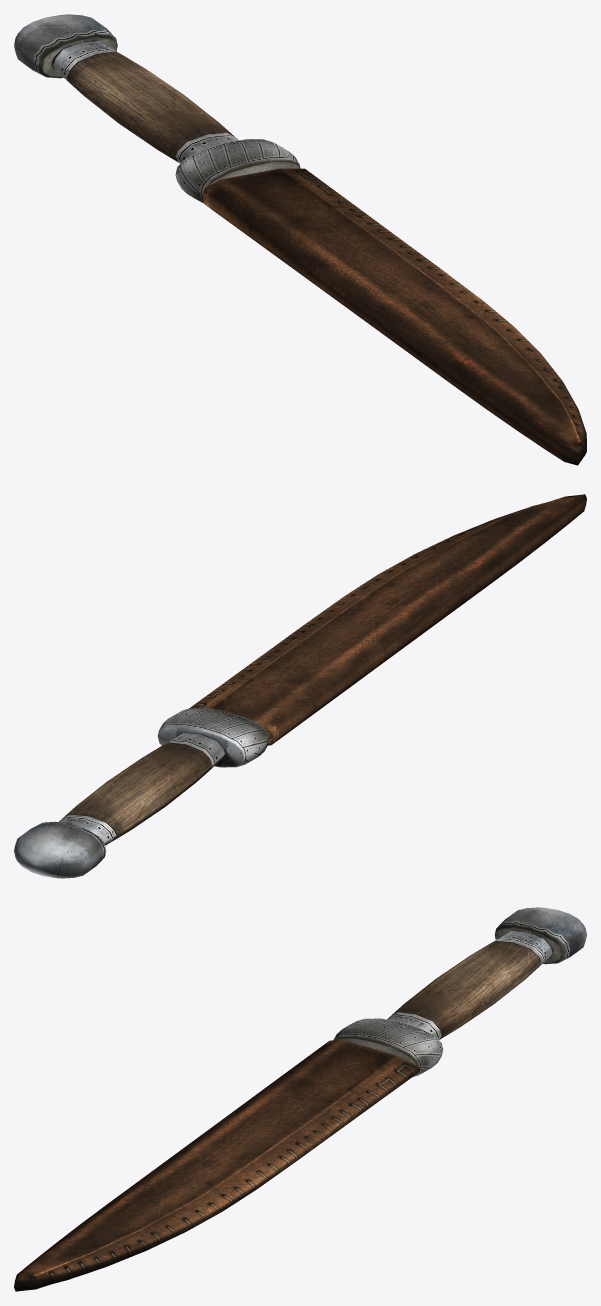
File: Knife_A_with_skabbard.FBX
3 views of the same model, one above another, from view 1: azimuth 30°, elevation 25°; view 2: azimuth 150°, elevation 25°; view 3: azimuth 330°, elevation 25° (orthographic). The views are drawn at different scales.
Parts seen in each view (by area): view 1: Knife_Scabbard_A, Knife_A01; view 2: Knife_Scabbard_A, Knife_A01; view 3: Knife_Scabbard_A, Knife_A01.
Boxes of the visible parts, left/top/right/bottom form: Knife_Scabbard_A: left=202, top=168, right=586, bottom=465; Knife_A01: left=14, top=14, right=300, bottom=203; Knife_Scabbard_A: left=189, top=494, right=586, bottom=745; Knife_A01: left=14, top=707, right=269, bottom=878; Knife_Scabbard_A: left=14, top=1039, right=419, bottom=1291; Knife_A01: left=333, top=907, right=586, bottom=1077.
Size of the model in its own units: 7.4 by 3 by 69.49.
